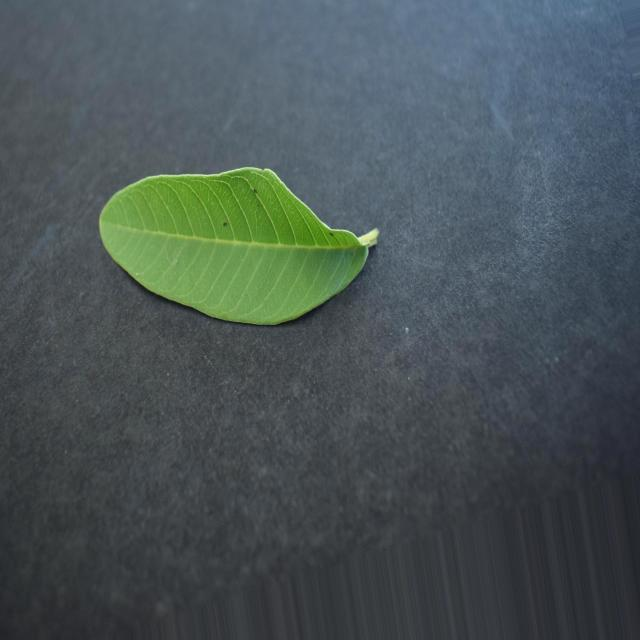Healthy: (100, 167, 379, 324)
